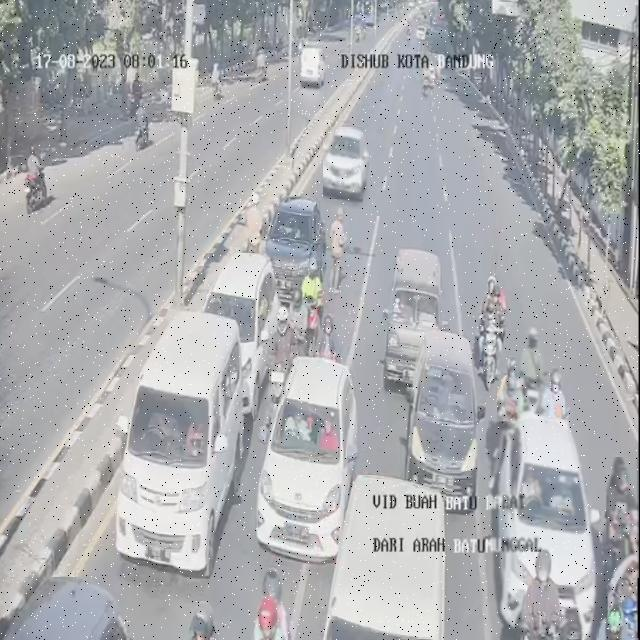cars: (114, 309, 243, 580), (488, 413, 599, 638), (254, 356, 351, 564), (325, 476, 446, 638), (405, 331, 486, 509), (204, 253, 279, 416), (385, 248, 442, 390), (6, 577, 130, 639), (267, 197, 324, 302), (324, 127, 369, 199)
motorcycle: (608, 458, 640, 578), (522, 550, 565, 638), (475, 275, 508, 389), (518, 316, 549, 420), (290, 267, 322, 355), (271, 306, 299, 404), (608, 555, 639, 638), (256, 568, 288, 640), (498, 360, 524, 421), (541, 369, 570, 419), (317, 313, 338, 361), (189, 601, 215, 639)
